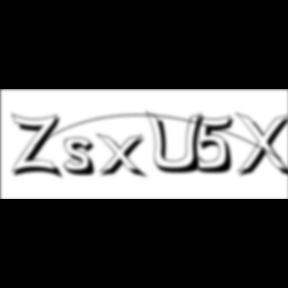5: (194, 114, 240, 176)
U: (146, 110, 210, 176)
Z: (12, 112, 66, 181)
s: (64, 137, 102, 179)
x: (97, 132, 152, 181)
